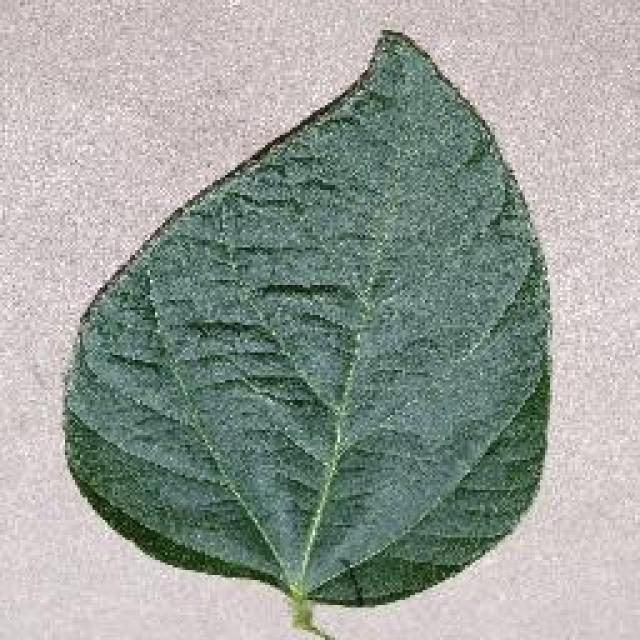Soy_healthy: (90, 54, 550, 580)
